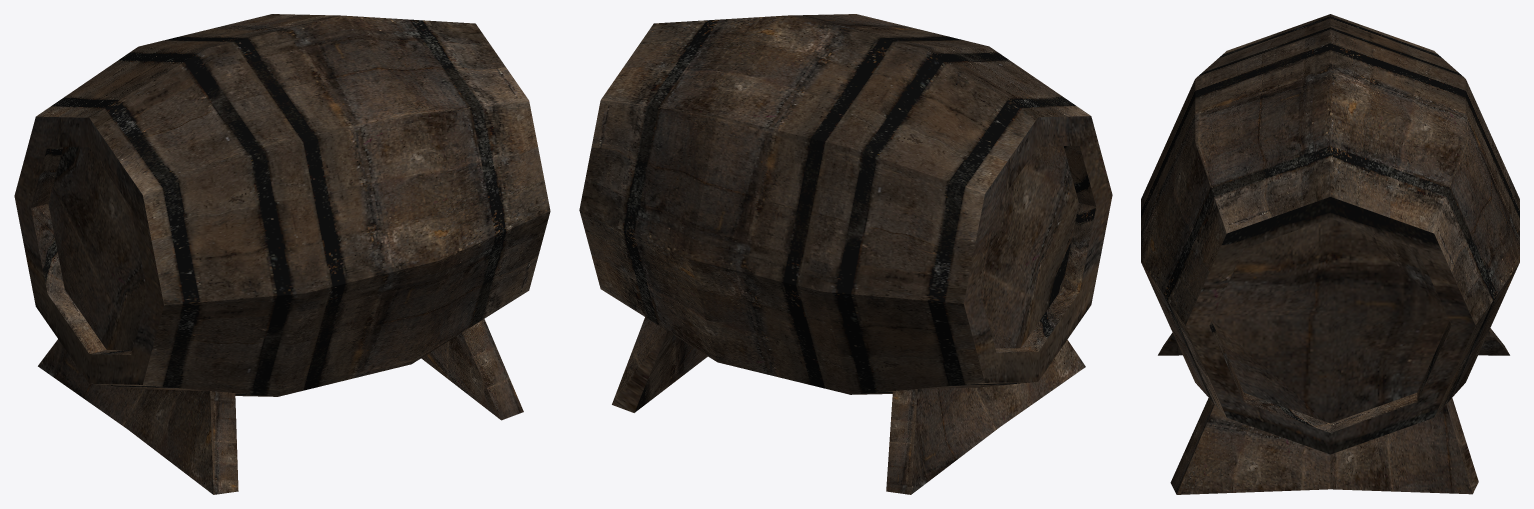
File: barrel_stand00.fbx
3 renders of one model, left to right at view 1: azimuth 30°, elevation 25°; view 2: azimuth 150°, elevation 25°; view 3: azimuth 270°, elevation 25°, orthographic. The views are drawn at different scales.
Visible parts, largest first — view 1: Cube; view 2: Cube; view 3: Cube.
Part boxes in pixels (bbox=[...]): Cube: bbox=[14, 14, 550, 494]; Cube: bbox=[579, 14, 1112, 494]; Cube: bbox=[1141, 14, 1519, 494].
Size of the model in its own units: 149 by 134 by 131.
